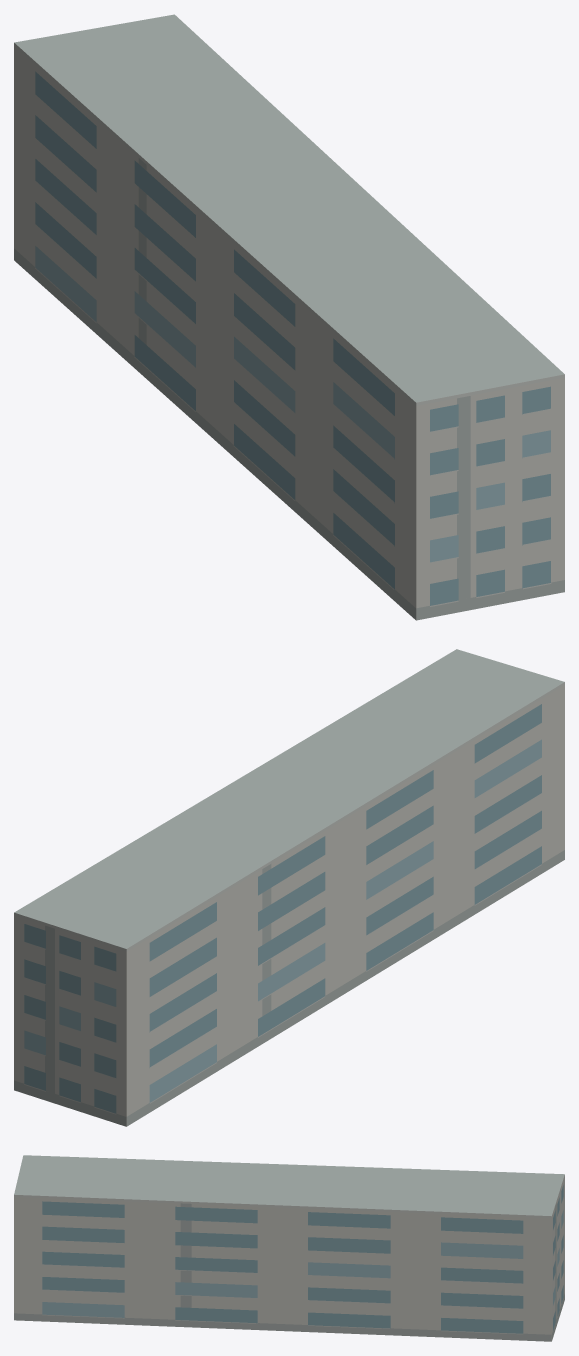
Rendered from residential-03ab7699-4ccf-43de-8bbd-95592d5d18a4.glb.
3 renders of one model, top to bottom at view 1: azimuth 30°, elevation 25°; view 2: azimuth 150°, elevation 25°; view 3: azimuth 270°, elevation 25°, orthographic. The views are drawn at different scales.
Visible parts, largest first — view 1: residential-03ab7699-4ccf-43de-8bbd-95592d5d18a4.tmp; view 2: residential-03ab7699-4ccf-43de-8bbd-95592d5d18a4.tmp; view 3: residential-03ab7699-4ccf-43de-8bbd-95592d5d18a4.tmp.
Boxes of the visible parts, x1,y1,x2,y2 form: residential-03ab7699-4ccf-43de-8bbd-95592d5d18a4.tmp: [14, 14, 564, 620]; residential-03ab7699-4ccf-43de-8bbd-95592d5d18a4.tmp: [14, 649, 564, 1126]; residential-03ab7699-4ccf-43de-8bbd-95592d5d18a4.tmp: [14, 1155, 564, 1341].
Size of the model in its own units: 15.89 by 15.25 by 60.64.
